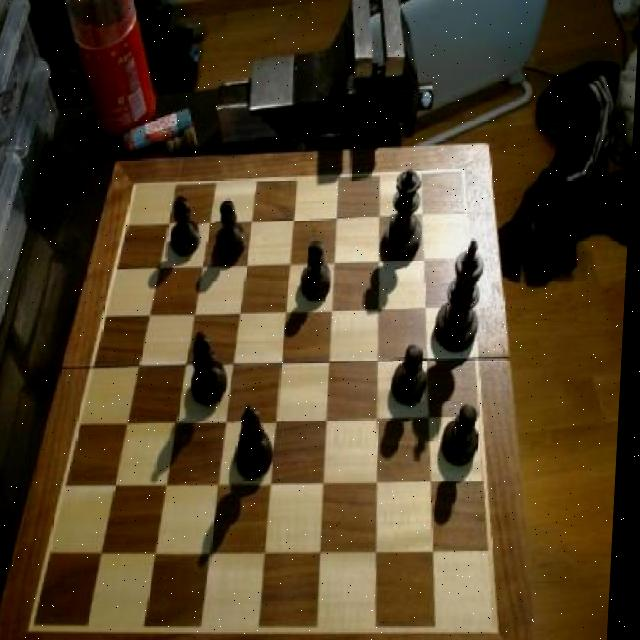bishop: (235, 403, 281, 486), (188, 329, 233, 410)
black-bishop: (438, 234, 489, 356)
black-knight: (446, 403, 486, 472), (395, 345, 433, 412), (300, 240, 339, 303), (169, 196, 207, 256), (217, 198, 252, 261)
black-pawn: (386, 166, 431, 264)
